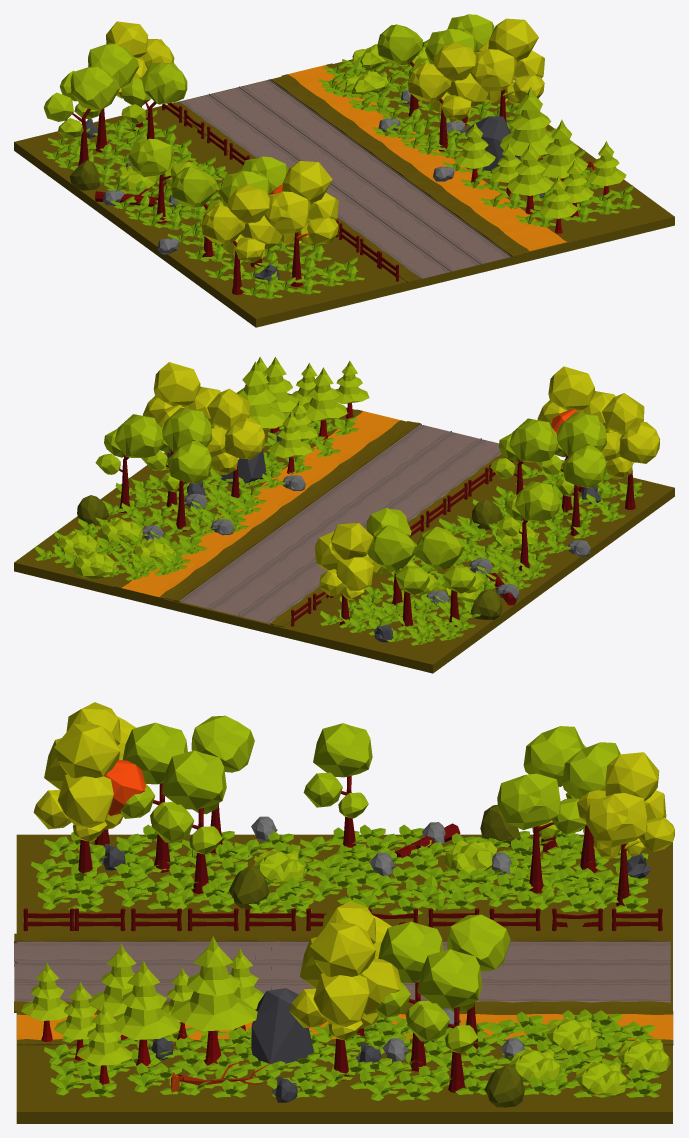
Rendered from Forest Area 8.fbx.
3 views of the same model, one above another, from view 1: azimuth 30°, elevation 25°; view 2: azimuth 150°, elevation 25°; view 3: azimuth 270°, elevation 25° (orthographic). The views are drawn at different scales.
Visible parts, largest first — view 1: SM_Env_Grass_01.065, Plane.008, Tree3.015, Tree3.013, Tree3.016, Tree3.014, Tree1.035, Tree1.037, Tree1.036, Tree1.038, Tree2.022, Tree3.018 (+19 smaller); view 2: SM_Env_Grass_01.065, Plane.008, Tree3.018, Tree3.016, Tree3.014, Tree1.036, Tree3.015, Tree1.025, Tree3.013, Tree1.035, Tree1.032, Tree1.038 (+20 smaller); view 3: Plane.008, SM_Env_Grass_01.065, Tree3.013, Tree3.015, Tree3.018, Plant_1_1.2382, Tree1.025, Tree1.032, Tree2.022, Tree1.038, Tree1.037, Tree1.033 (+25 smaller).
Part boxes in pixels (x1,y1,x2,y2): SM_Env_Grass_01.065: (166, 63, 573, 282); Plane.008: (14, 41, 674, 327); Tree3.015: (264, 161, 338, 286); Tree3.013: (470, 18, 544, 122); Tree3.016: (201, 184, 282, 294); Tree3.014: (407, 41, 488, 151); Tree1.035: (43, 66, 119, 165); Tree1.037: (121, 62, 187, 139); Tree1.036: (59, 43, 139, 152); Tree1.038: (128, 138, 197, 223); Tree2.022: (500, 87, 554, 156); Tree3.018: (106, 21, 174, 130); SM_Env_Grass_01.065: (114, 409, 505, 627); Plane.008: (14, 393, 674, 673); Tree3.018: (315, 523, 382, 627); Tree3.016: (601, 393, 659, 509); Tree3.014: (206, 388, 265, 504); Tree1.036: (367, 525, 438, 626); Tree3.015: (537, 366, 615, 492); Tree1.025: (95, 414, 163, 513); Tree3.013: (143, 362, 220, 483); Tree1.035: (416, 526, 483, 626); Tree1.032: (490, 418, 558, 494); Tree1.038: (497, 481, 559, 570); Plane.008: (16, 834, 672, 1123); SM_Env_Grass_01.065: (14, 933, 673, 1045); Tree3.013: (289, 922, 401, 1080); Tree3.015: (33, 724, 145, 877); Tree3.018: (577, 752, 674, 906); Plant_1_1.2382: (23, 897, 662, 931); Tree1.025: (407, 949, 482, 1093); Tree1.032: (151, 750, 226, 894); Tree2.022: (170, 936, 257, 1064); Tree1.038: (303, 723, 372, 847); Tree1.037: (497, 773, 586, 893); Tree1.033: (120, 722, 187, 872).
Size of what is drawn, in the model's own units: 10407 by 2889 by 10072.
